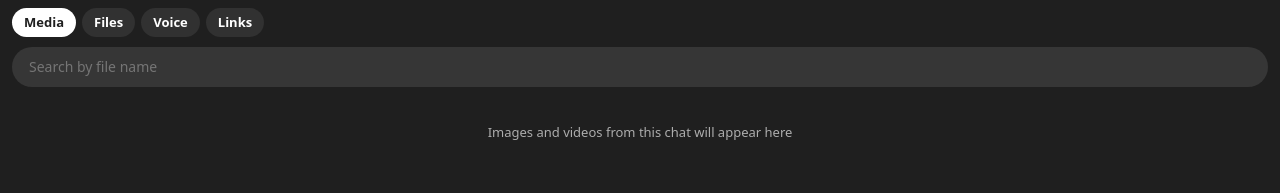
Test: SharedPanel › searches after typing and retries after a failure
The image size is (1280, 193).
Type "Report" into the field.
click(640, 67); type("Report")  # box [12,47,1268,87]
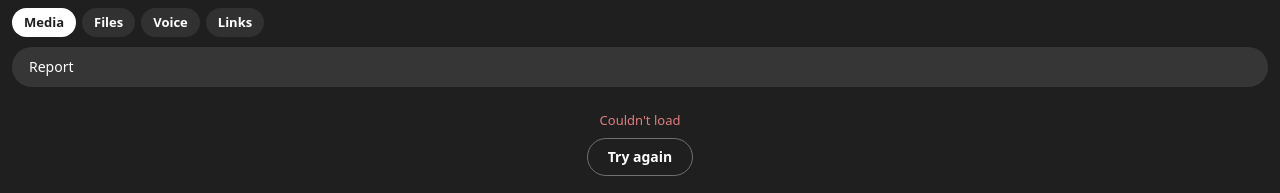
Check: the message shows "Couldn't load", box [600,111,680,129]
Click the button "Try again".
click(640, 157)  # box [587,138,693,176]
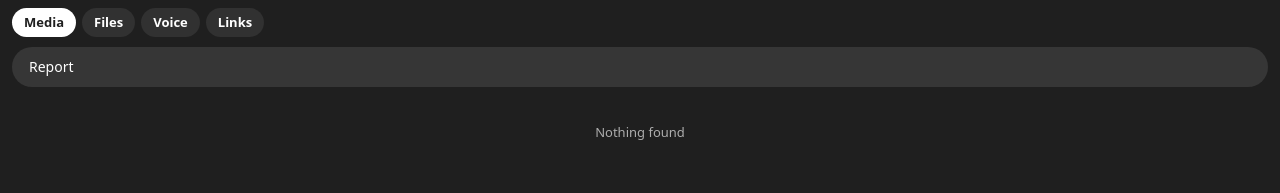
Check: the text "Nothing found" is shown, box [595,123,685,141]
